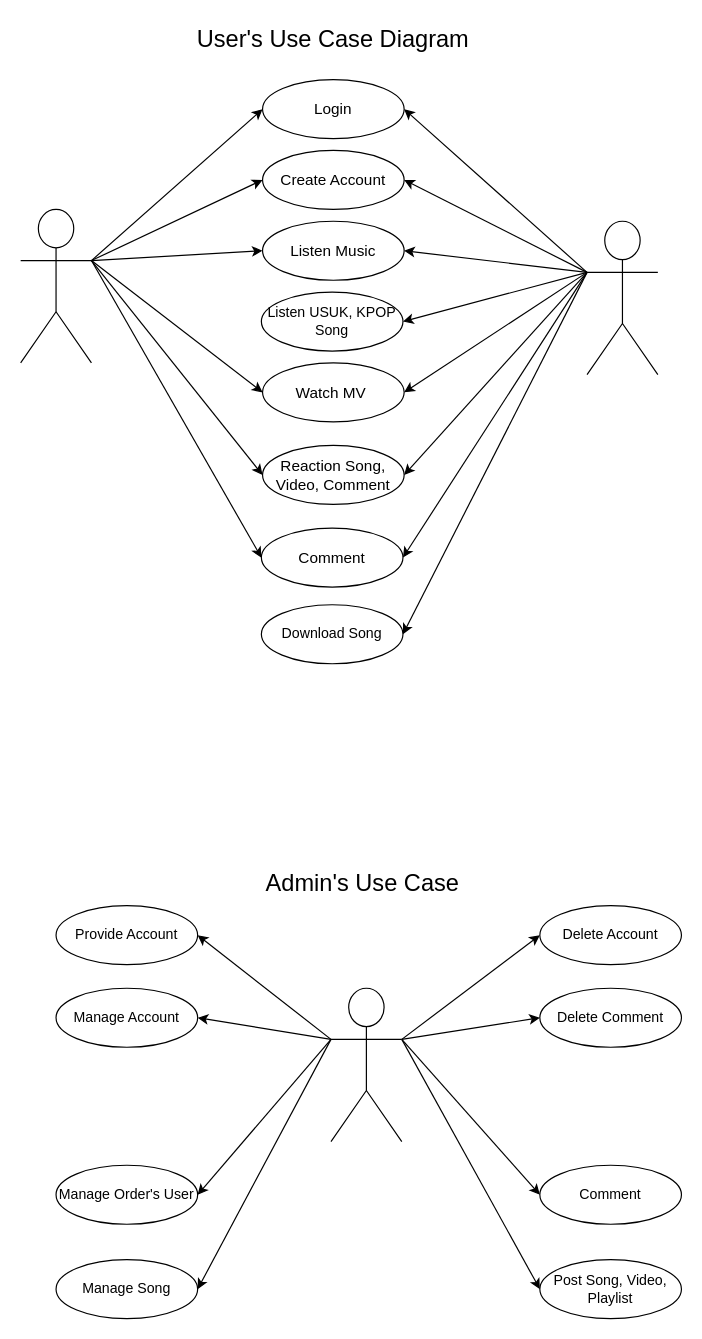
This 702x1339 diagram has some shape labels left out. The centre of each missing label's shape, as x and y in pixels:
Admin: (366,1064)
User: (55,285)
VIP User: (622,297)
